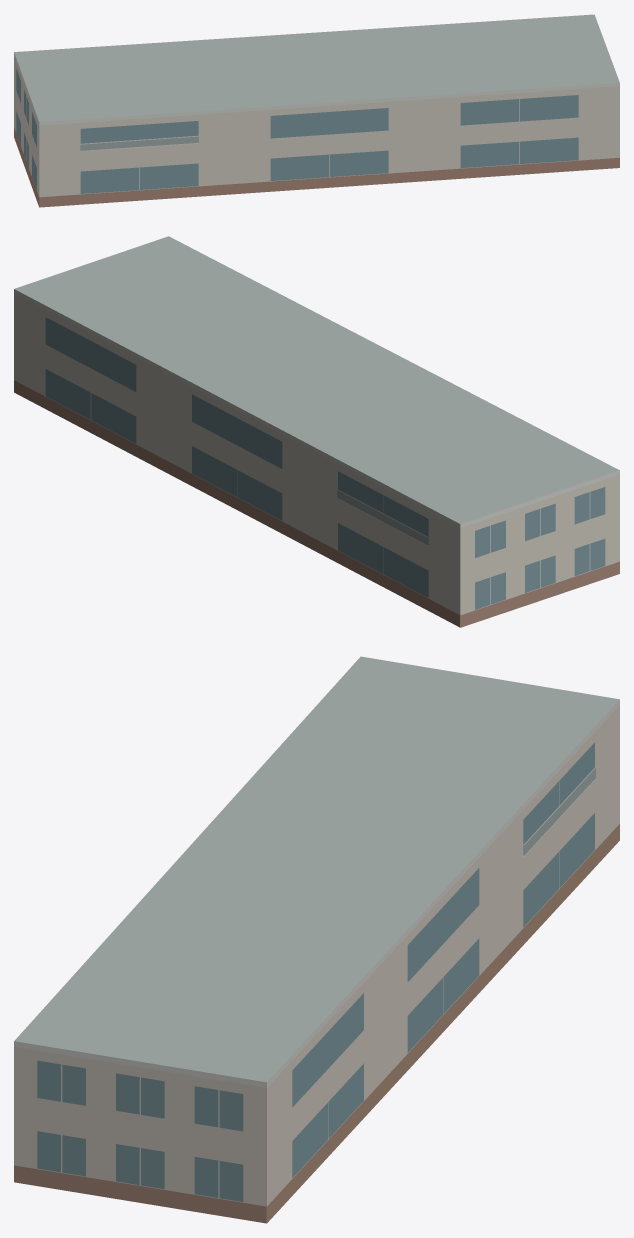
File: survey-upis-32513100.glb
3 views of the same model, one above another, from view 1: azimuth 30°, elevation 25°; view 2: azimuth 150°, elevation 25°; view 3: azimuth 270°, elevation 25° (orthographic). The views are drawn at different scales.
Parts seen in each view (by area): view 1: survey-upis-32513100.tmp; view 2: survey-upis-32513100.tmp; view 3: survey-upis-32513100.tmp.
Part boxes in pixels (box(x1,y1,x2,y2)): survey-upis-32513100.tmp: box(14, 14, 619, 207); survey-upis-32513100.tmp: box(14, 236, 619, 627); survey-upis-32513100.tmp: box(14, 656, 619, 1223).
Size of the model in its own units: 39.48 by 6.1 by 23.74.
